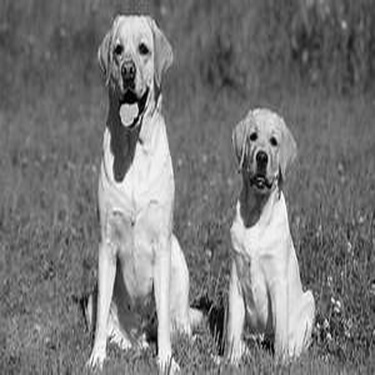dog: (53, 9, 208, 373), (193, 102, 322, 370)
